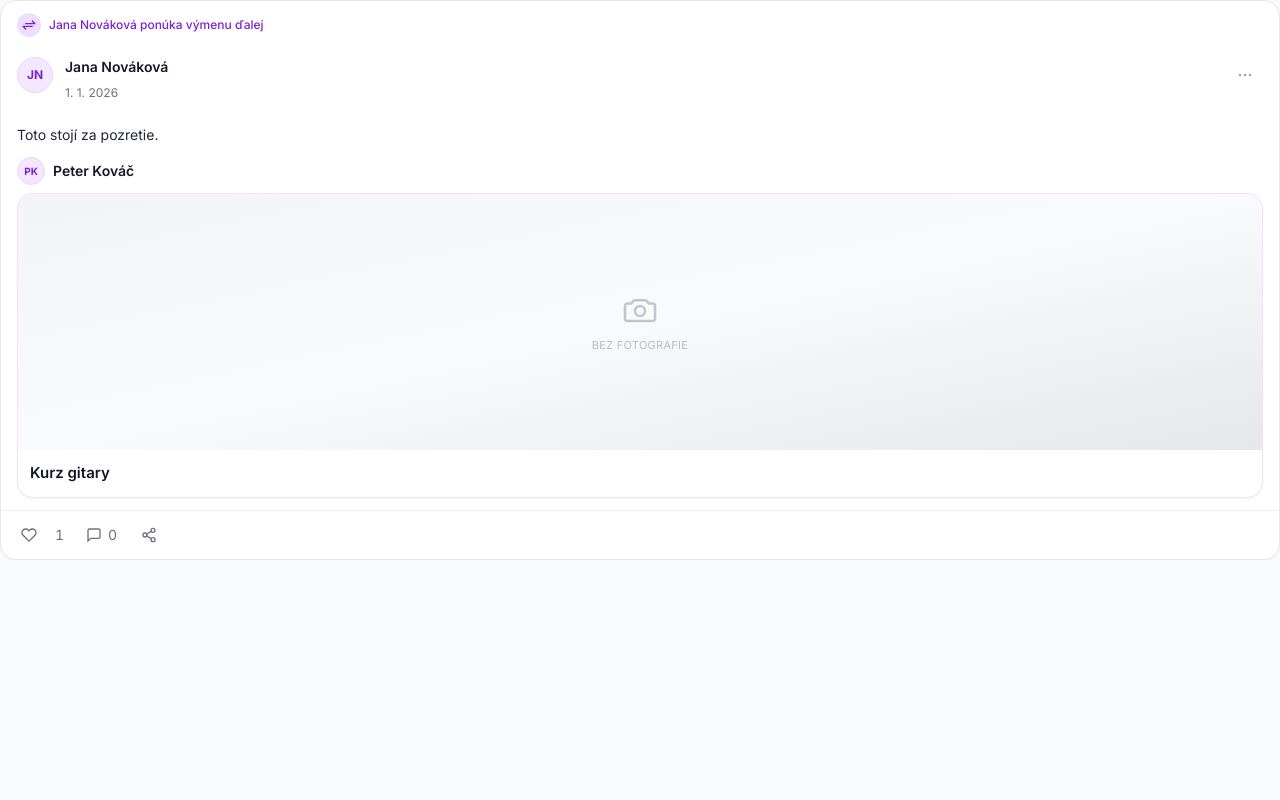
Test: smerovanie zo zdieľanej karty › opens the mobile detail from the text on shared_offer
This screenshot has width=1280, height=800.
Click the text with test id "feed-post-caption" at x=88, y=134, box [17,126,158,143]
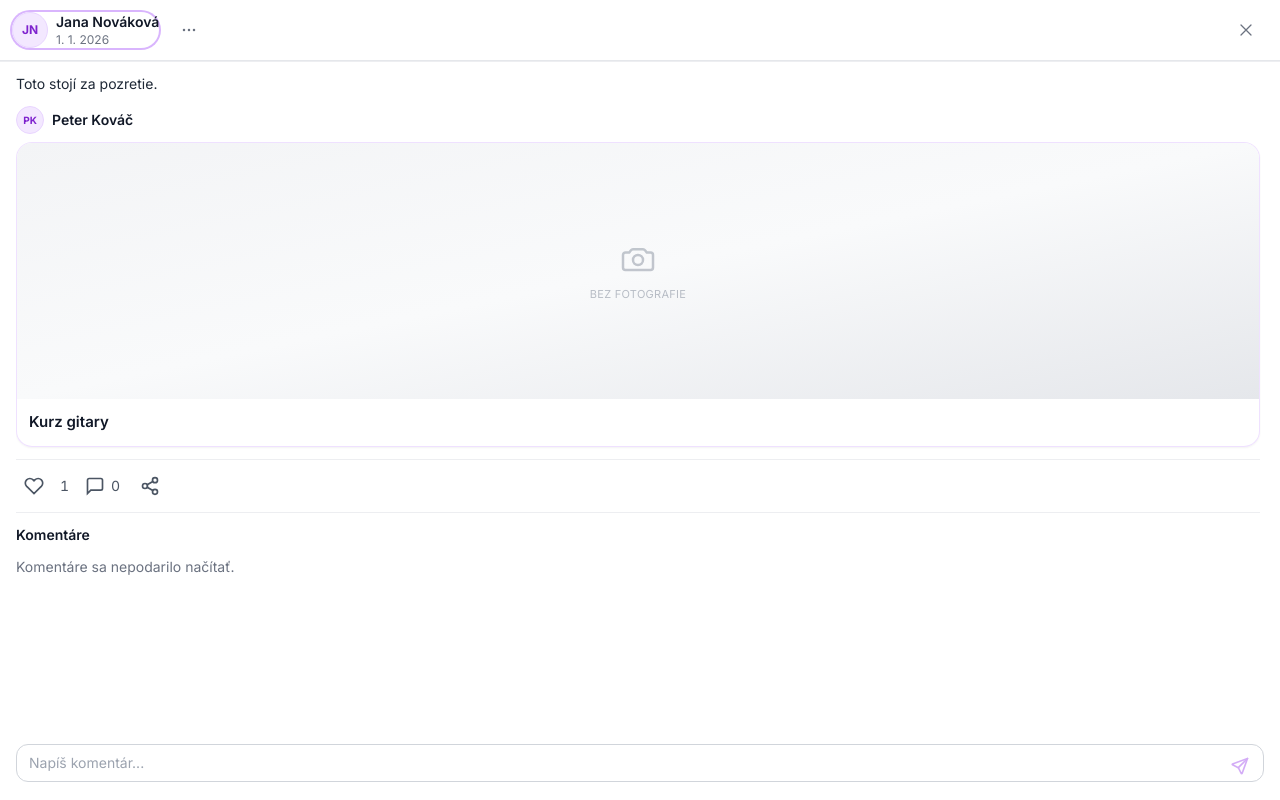
Now the dialog with test id "feed-mobile-detail" is shown
